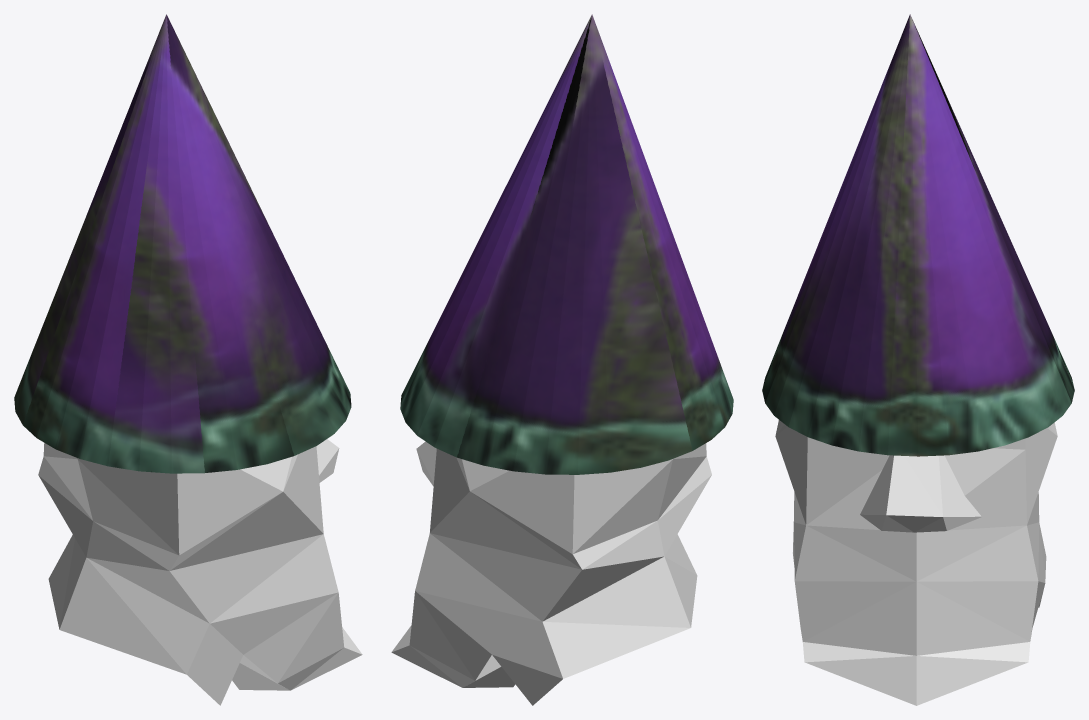
File: WizardHead.fbx
3 views of the same model, side by side, from view 1: azimuth 30°, elevation 25°; view 2: azimuth 150°, elevation 25°; view 3: azimuth 270°, elevation 25° (orthographic). The views are drawn at different scales.
Parts seen in each view (by area): view 1: Cone, Sphere; view 2: Cone, Sphere; view 3: Cone, Sphere.
Part boxes in pixels (<box>): Cone: <box>14,14,351,473</box>; Sphere: <box>38,439,362,705</box>; Cone: <box>400,14,733,474</box>; Sphere: <box>391,441,711,705</box>; Cone: <box>762,14,1074,456</box>; Sphere: <box>775,420,1057,705</box>.
Size of the model in its own units: 127 by 285 by 125.
